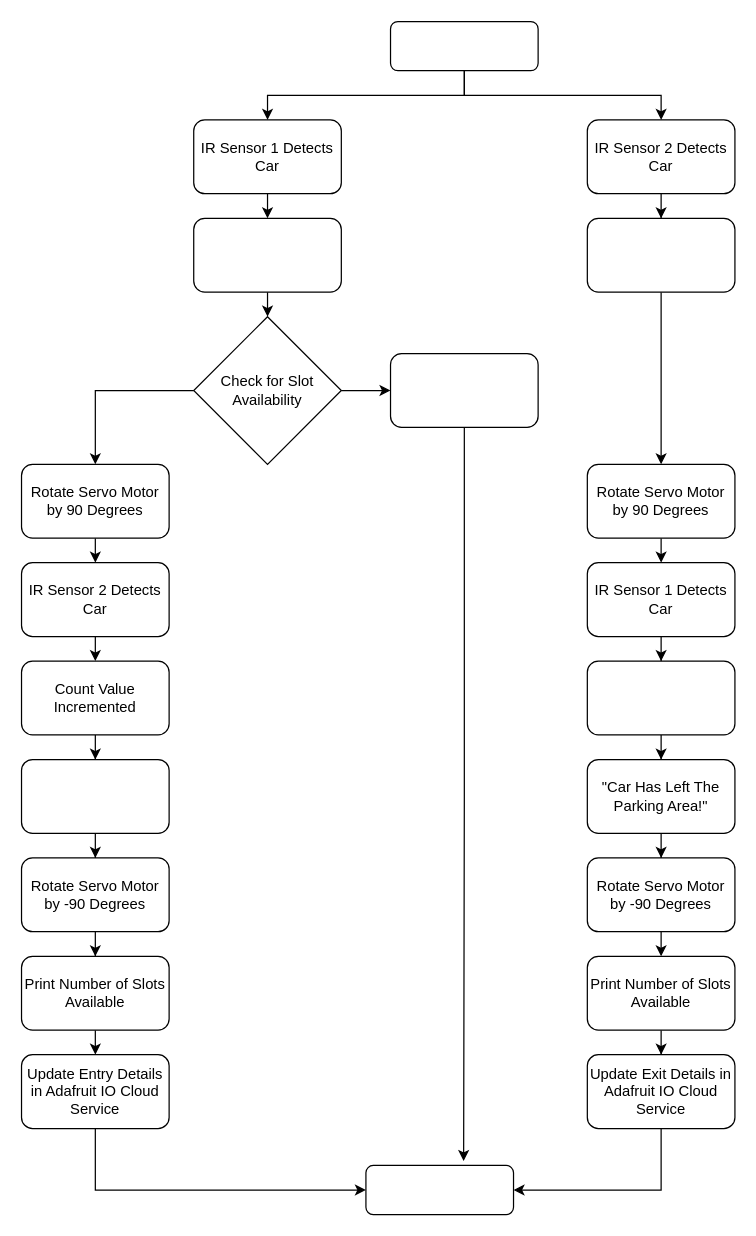
This 756x1236 diagram has some shape labels left out. Each missing label, with the centre of its shape:
"Car Has Been Parked!": (94,795)
Car Arrived at Gate for Entry: (266,254)
Car Arrived at Gate for Exit: (660,254)
Count Value Decremented: (660,697)
End: (439,1189)
Print "ALL SLOTS FULL!": (463,389)
Start: (463,45)
